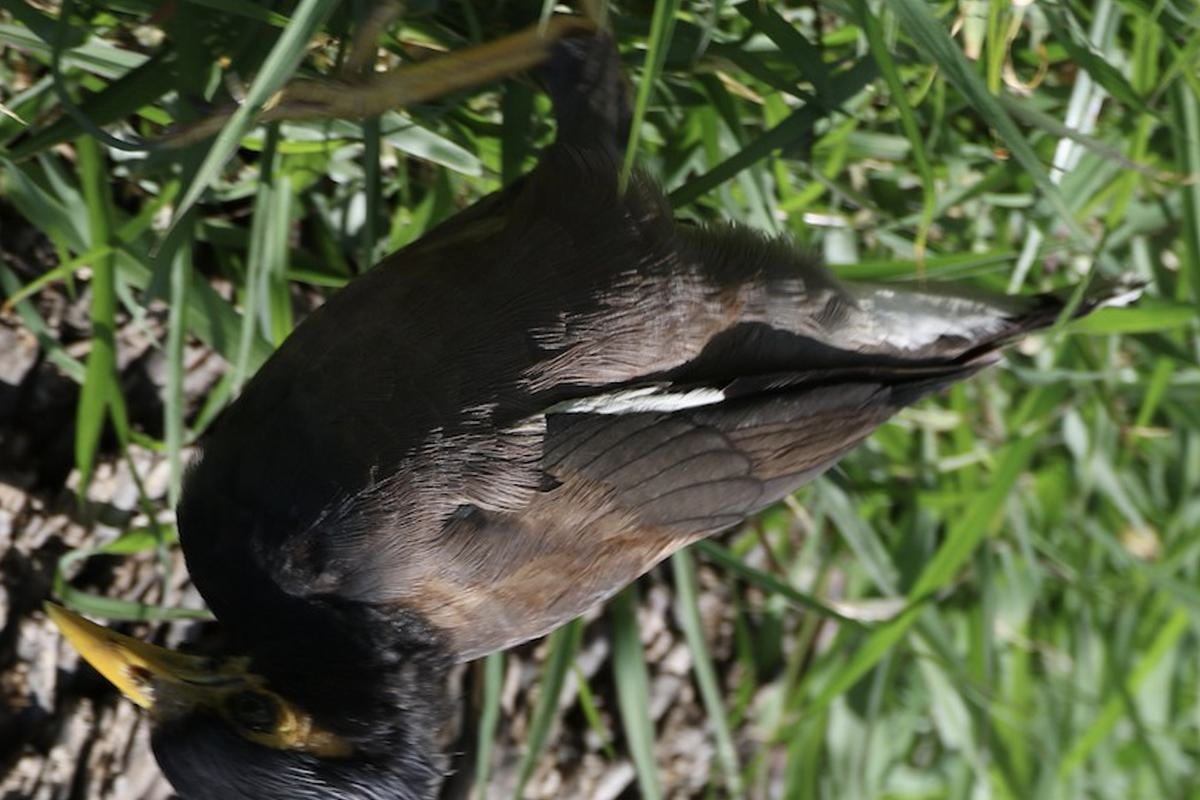myna: (63, 167, 848, 780)
